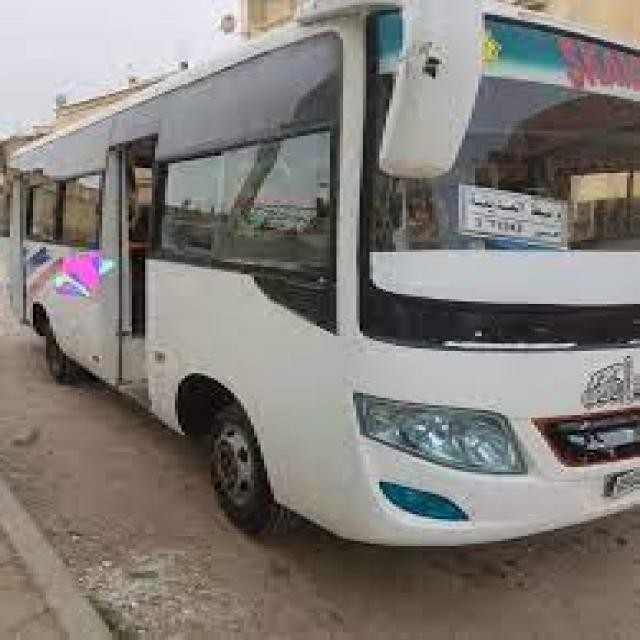bus: (0, 48, 629, 504)
